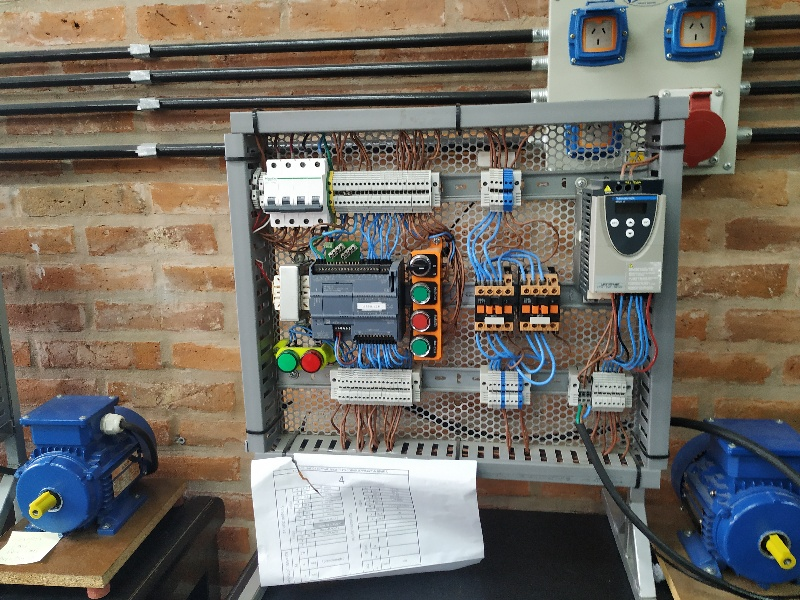Tablero 4: (236, 123, 671, 467)
